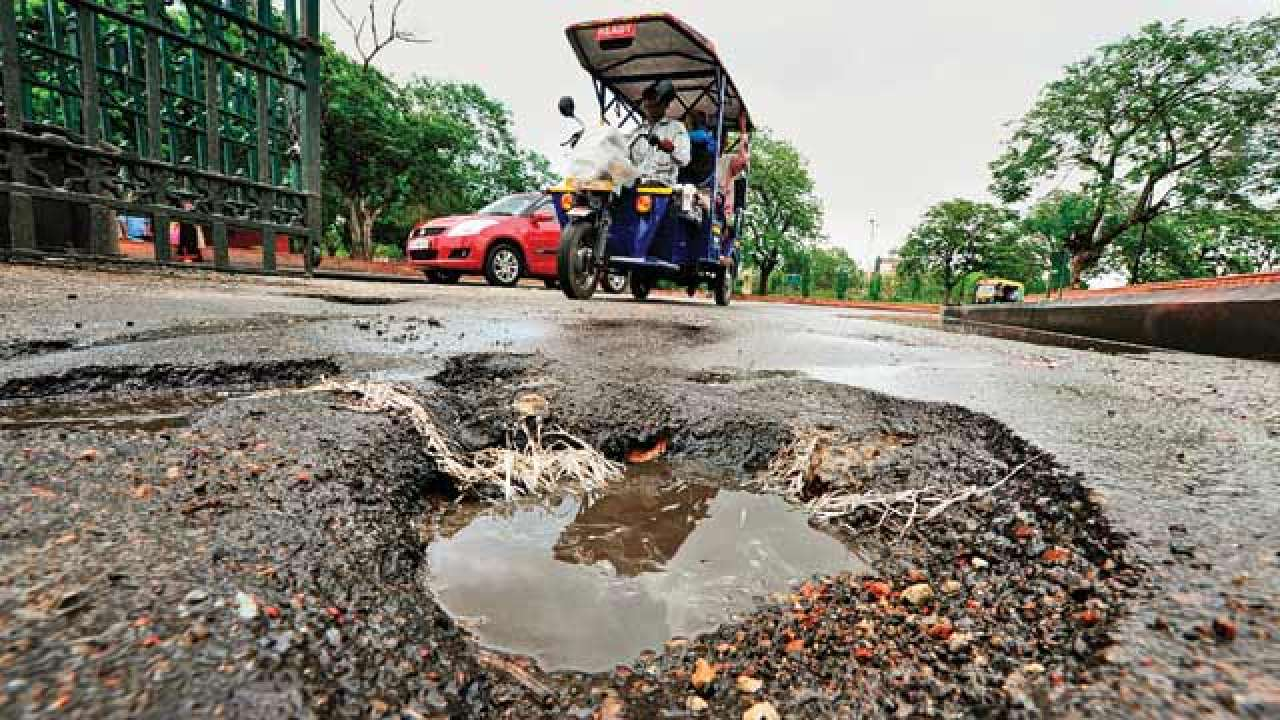pothole: (409, 433, 928, 681), (0, 332, 353, 448)
